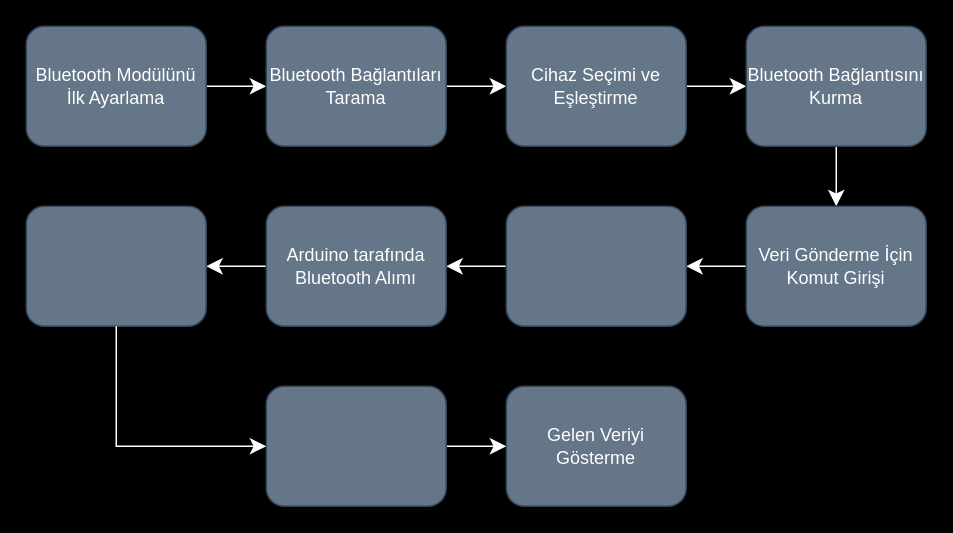
Image size: 953x533. Some labels were removed from this diagram. The shapes that lost their labels are listed below. From the top down, each one's centre as x and y in pixels, then its label:
At (115,265): "Arduino tarafından Yanıt Gönderme".
At (595,265): "Veri Paketleme ve Gönderme".
At (355,445): "Bağlantı Kontrolleri".
